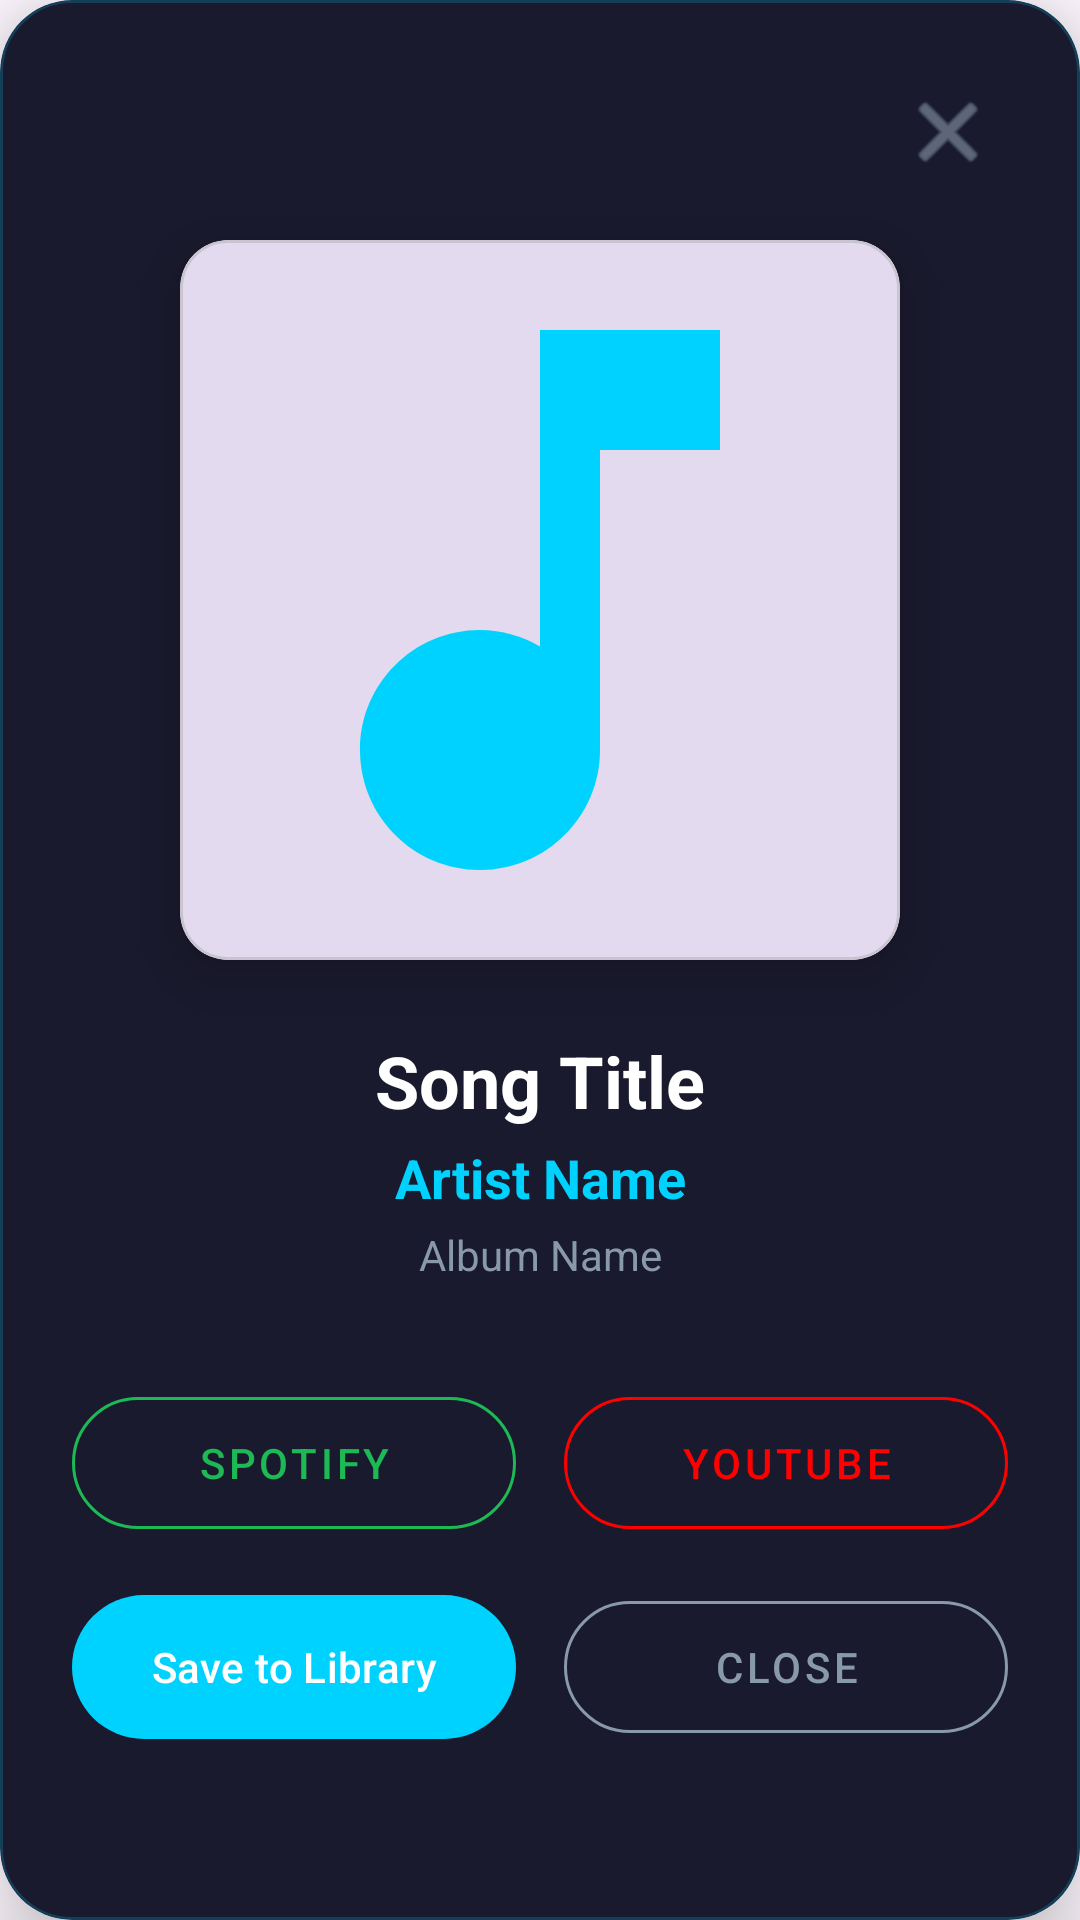

Icon bounding boxes for this 1080*1920 phone screenshot, format (x1, y1, x2, y2):
close clear cancel: (918, 102, 978, 162)
